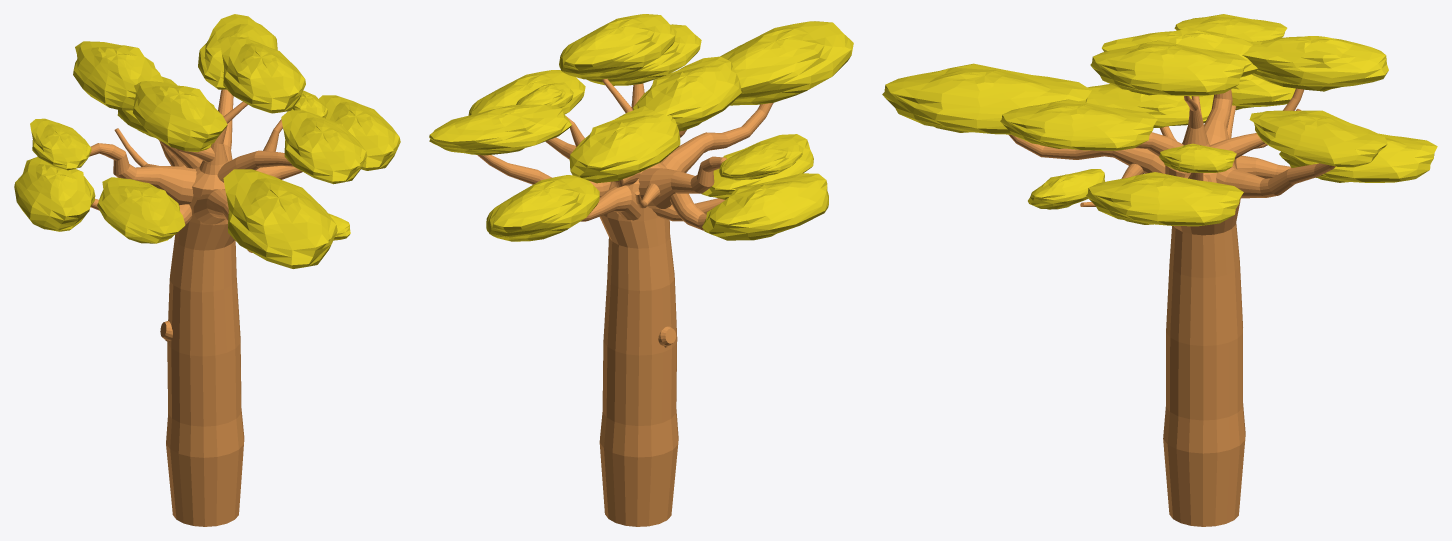
File: lp_tree_02.glb
3 renders of one model, left to right at view 1: azimuth 30°, elevation 25°; view 2: azimuth 150°, elevation 25°; view 3: azimuth 270°, elevation 25°, orthographic. The views are drawn at different scales.
Parts seen in each view (by area): view 1: Object_9, Object_14; view 2: Object_9, Object_14; view 3: Object_9, Object_14.
Boxes of the visible parts, x1,y1,x2,y2 form: Object_9: (14, 14, 400, 268); Object_14: (89, 89, 302, 526); Object_9: (429, 14, 853, 241); Object_14: (477, 78, 773, 526); Object_9: (882, 14, 1437, 226); Object_14: (1008, 88, 1335, 526).
Size of the model in its own units: 0.9841 by 1.24 by 1.29.
